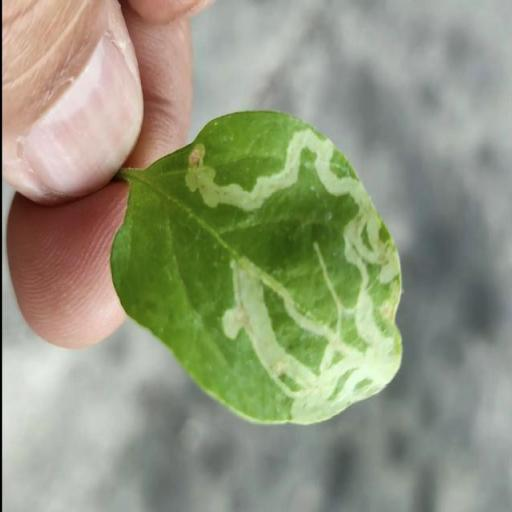disease_tomato: (108, 112, 404, 424)
